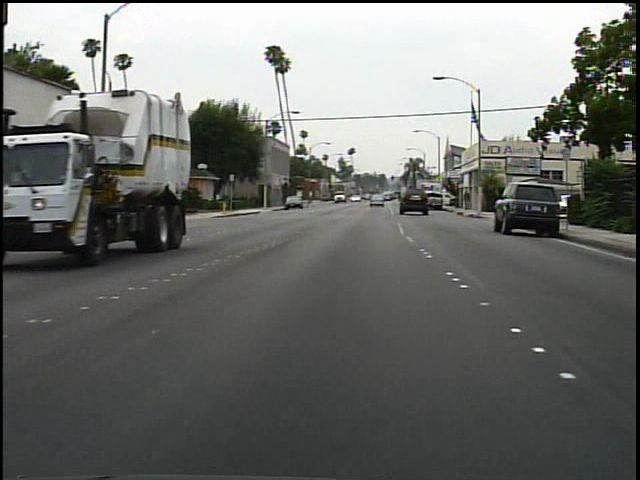person: (458, 187, 476, 215)
